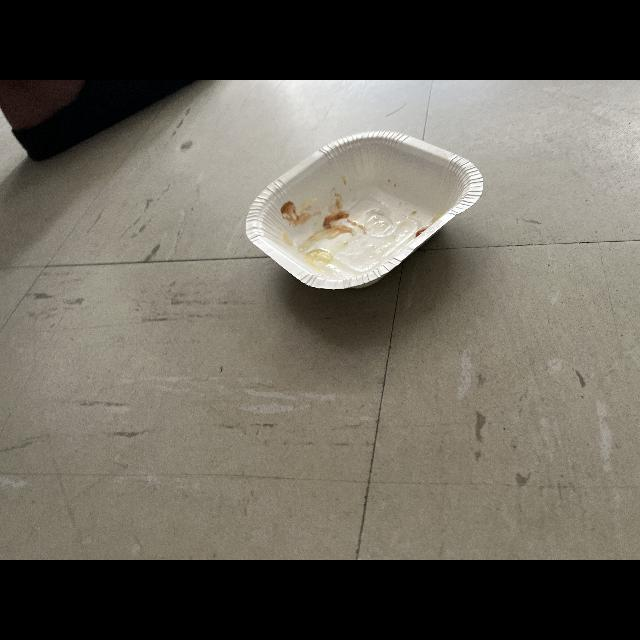cardboard_bowl: (241, 122, 487, 300)
